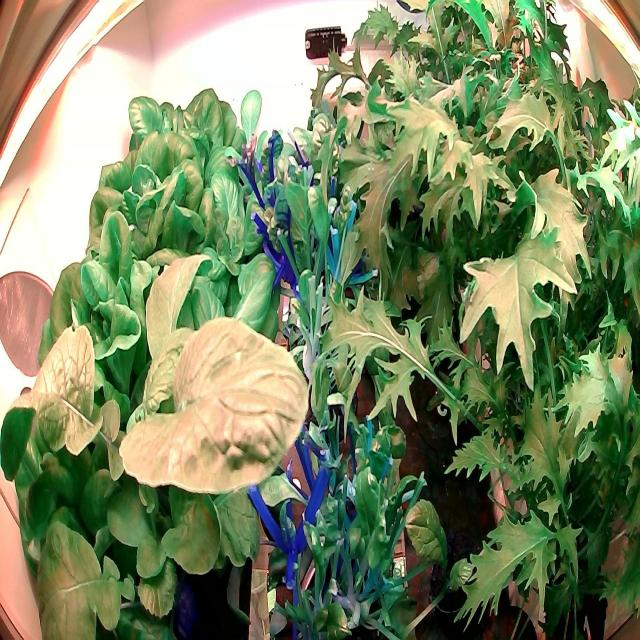Ready: (0, 324, 169, 640), (35, 206, 173, 448), (88, 88, 244, 253)
young: (203, 165, 270, 279), (220, 88, 278, 174)
